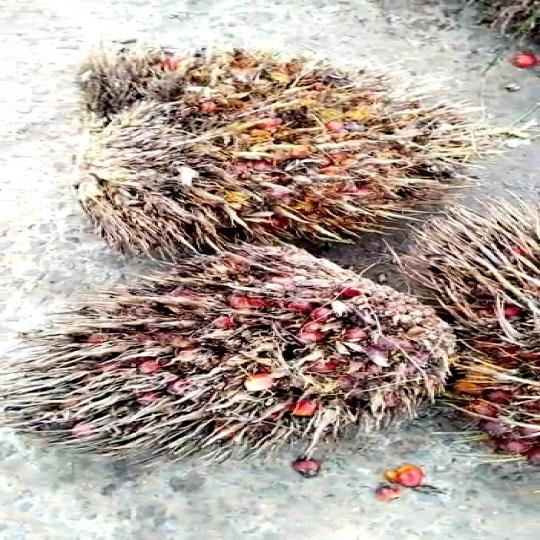terlalu masak: (0, 238, 472, 473), (42, 53, 485, 268)
